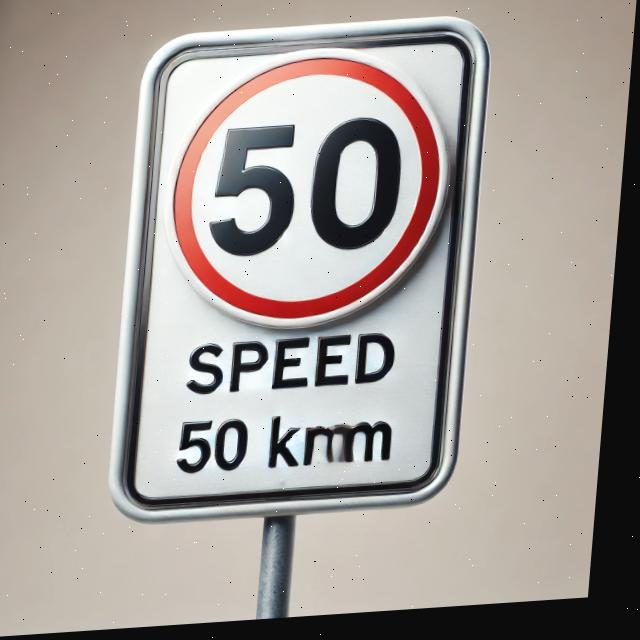Speed limit 50: (165, 48, 464, 342)
